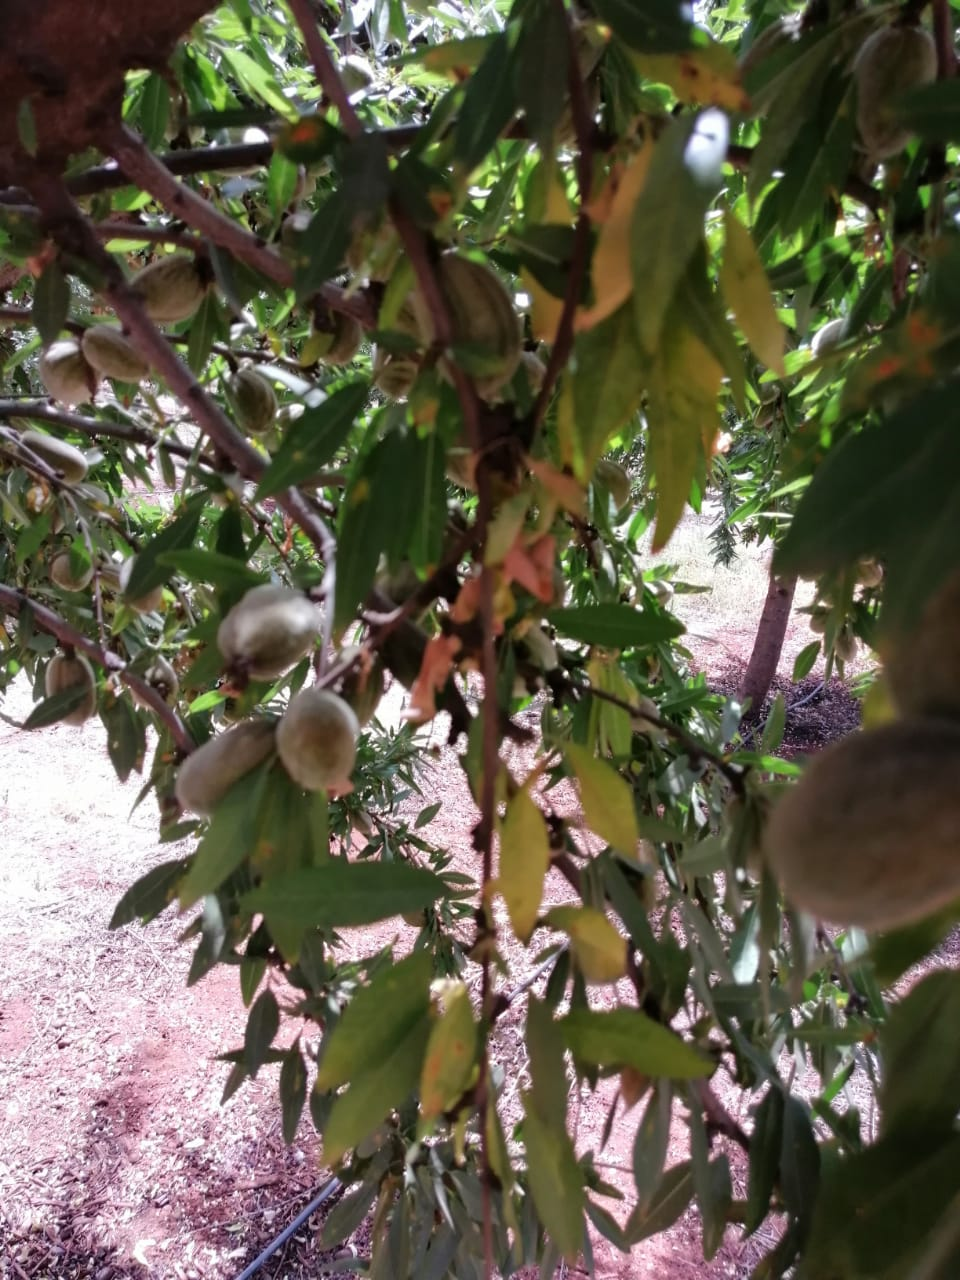chancre fusicocum: (392, 447, 644, 1130)
